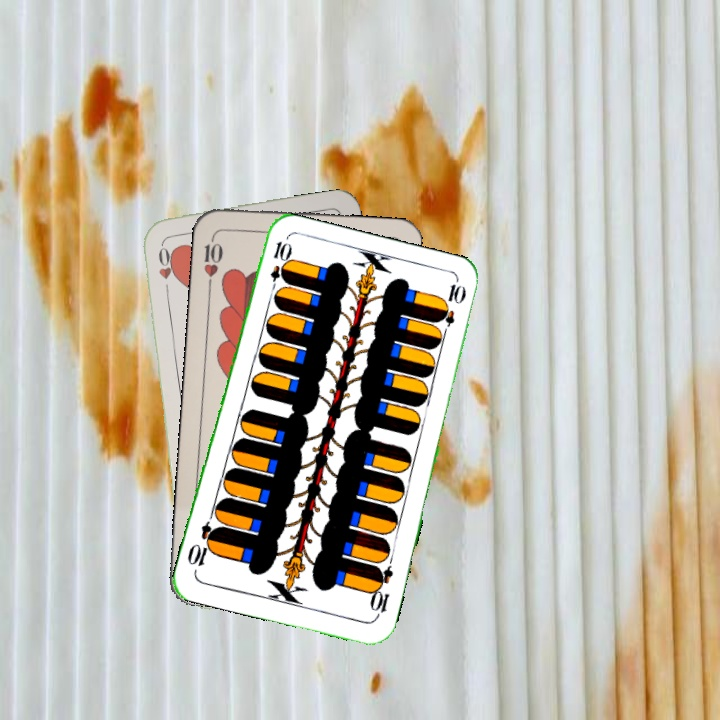E10: (365, 563, 396, 621), (266, 237, 291, 296)
H10: (199, 231, 226, 290)
HO: (154, 239, 174, 299)
